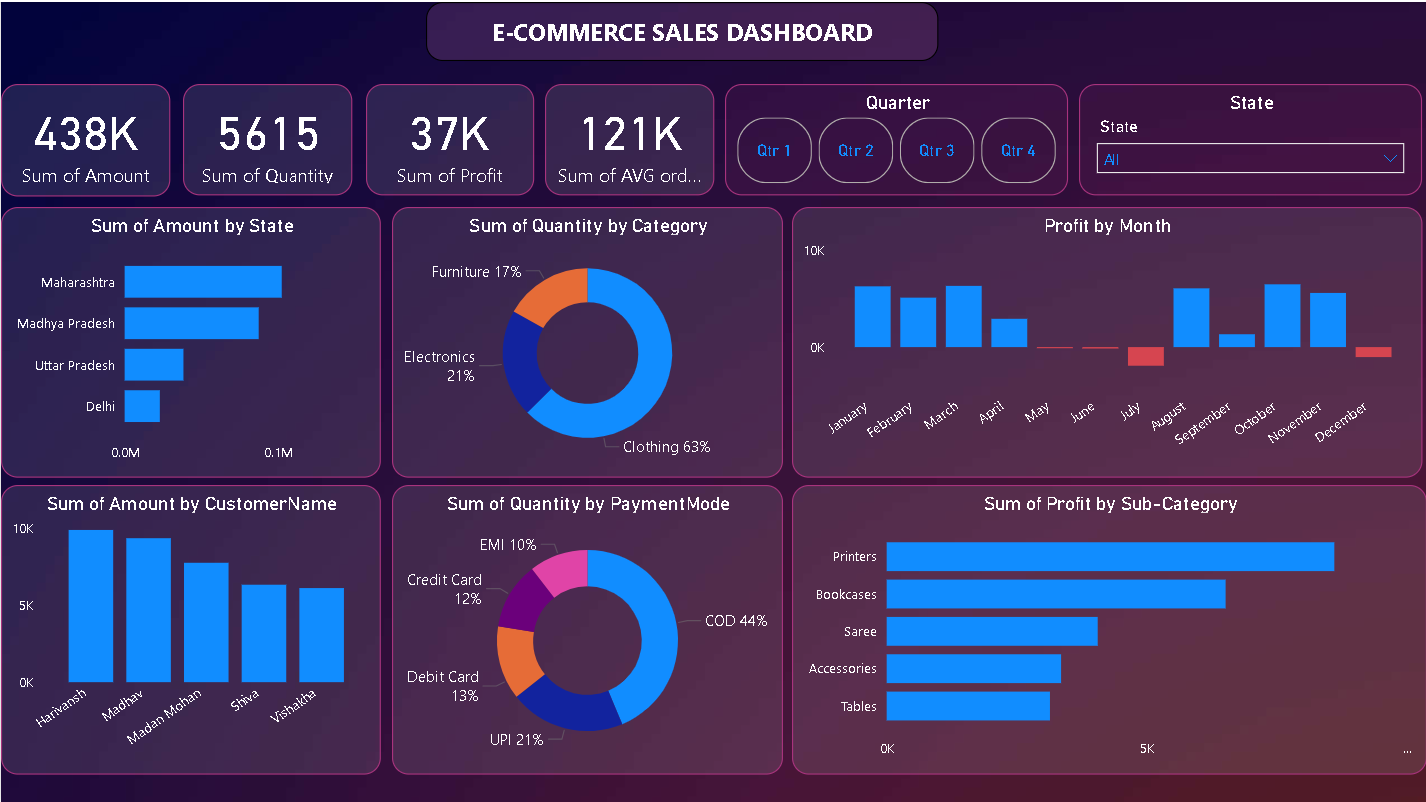

The dashboard page shown, as its layout file describes it:
{"tool":"powerbi","page":{"name":"Page 1","canvas":[1280,720],"ordinal":0},"visuals":[{"type":"textbox","box":[381.3,0,460.1,53.5],"z":0},{"type":"columnChart","fields":{"Y":["Details.Profit"],"Category":["Orders.Order Date.Variation.Date Hierarchy.Month"]},"box":[710,183.8,566.1,243.2],"z":1000},{"type":"barChart","fields":{"Category":["Details.Sub-Category"],"Y":["Details.Profit"]},"box":[710,433.8,570,259.7],"z":2000},{"type":"donutChart","fields":{"Category":["Details.Category"],"Y":["Details.Quantity"]},"box":[351,184,351,243.3],"z":3000},{"type":"donutChart","fields":{"Y":["Details.Quantity"],"Category":["Details.PaymentMode"]},"box":[351,433.6,351,260.3],"z":3001},{"type":"card","fields":{"Values":["Details.Amount"]},"box":[0,73.6,151.7,100.5],"z":3002},{"type":"card","fields":{"Values":["Details.Quantity"]},"box":[163.4,73.9,151.7,100.2],"z":3003},{"type":"card","fields":{"Values":["Details.Profit"]},"box":[327.8,73.9,150.8,100.2],"z":3004},{"type":"card","fields":{"Values":["Details.AVG order value"]},"box":[488.3,73.9,151.7,100.2],"z":3005},{"type":"barChart","fields":{"Category":["Orders.State"],"Y":["Details.Amount"]},"box":[0,183.8,341.4,243.2],"z":3006},{"type":"columnChart","fields":{"Category":["Orders.CustomerName"],"Y":["Details.Amount"]},"box":[0,434,341,260],"z":3007},{"type":"advancedSlicerVisual","fields":{"Values":["Orders.Order Date.Variation.Date Hierarchy.Quarter"]},"box":[649.7,73.9,308.3,100.2],"z":3009},{"type":"slicer","title":"State","fields":{"Values":["Orders.State"]},"box":[967.8,73.9,308.3,100.2],"z":3010}]}

Visuals, with their boxes in screenshot pixels (x1, y1, x2, y2), scaled from the page's 1280x720 canvas onto the 1426x802 screenshot:
textbox: <region>425, 0, 937, 60</region>
columnChart - Details.Profit x Orders.Order Date.Variation.Date Hierarchy.Month: <region>791, 205, 1422, 476</region>
barChart - Details.Sub-Category x Details.Profit: <region>791, 483, 1425, 772</region>
donutChart - Details.Category x Details.Quantity: <region>391, 205, 782, 476</region>
donutChart - Details.Quantity x Details.PaymentMode: <region>391, 483, 782, 773</region>
card - Details.Amount: <region>0, 82, 169, 194</region>
card - Details.Quantity: <region>182, 82, 351, 194</region>
card - Details.Profit: <region>365, 82, 533, 194</region>
card - Details.AVG order value: <region>544, 82, 713, 194</region>
barChart - Orders.State x Details.Amount: <region>0, 205, 380, 476</region>
columnChart - Orders.CustomerName x Details.Amount: <region>0, 483, 380, 773</region>
advancedSlicerVisual - Orders.Order Date.Variation.Date Hierarchy.Quarter: <region>724, 82, 1067, 194</region>
"State" slicer: <region>1078, 82, 1422, 194</region>
